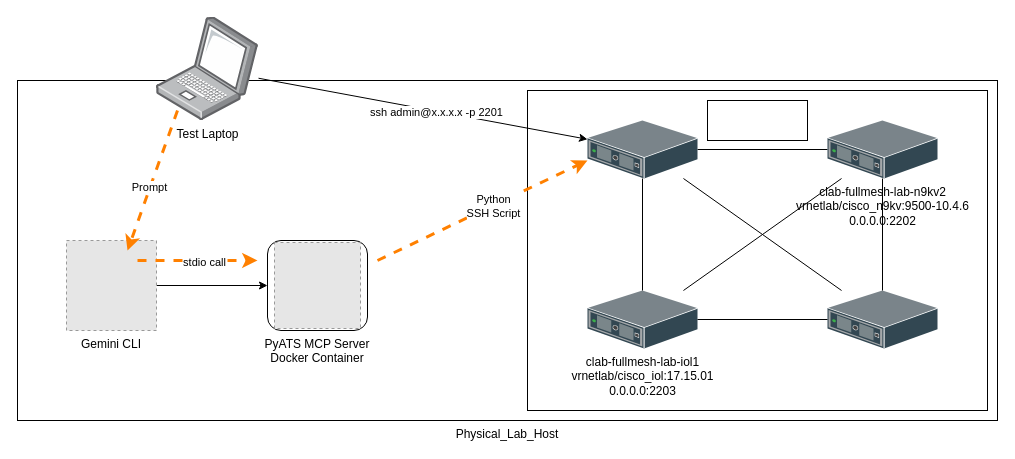
Image size: 1015x459. Some labels were removed from this diagram. Grey dashed boxes stand in for pictures. Each missing label, with the centre of its shape:
clab-fullmesh-lab-iol2 vrnetlab/cisco_iol:17.15.01 0.0.0.0:2204: the point at 882,319
clab-fullmesh-lab-n9kv1 vrnetlab/cisco_n9kv:9500-10.4.6 0.0.0.0:2201: the point at 642,149
Containerlab Topology: the point at 757,120
